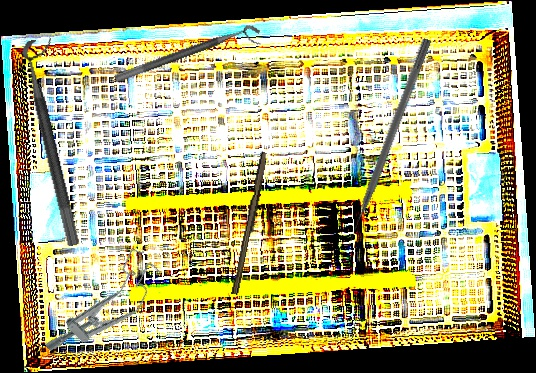Fixation Ring: (19, 36, 98, 247), (113, 21, 265, 96)
Pusher: (343, 37, 433, 243)
Scalpel Handle: (231, 151, 270, 296)
Speculum: (37, 244, 171, 373)
